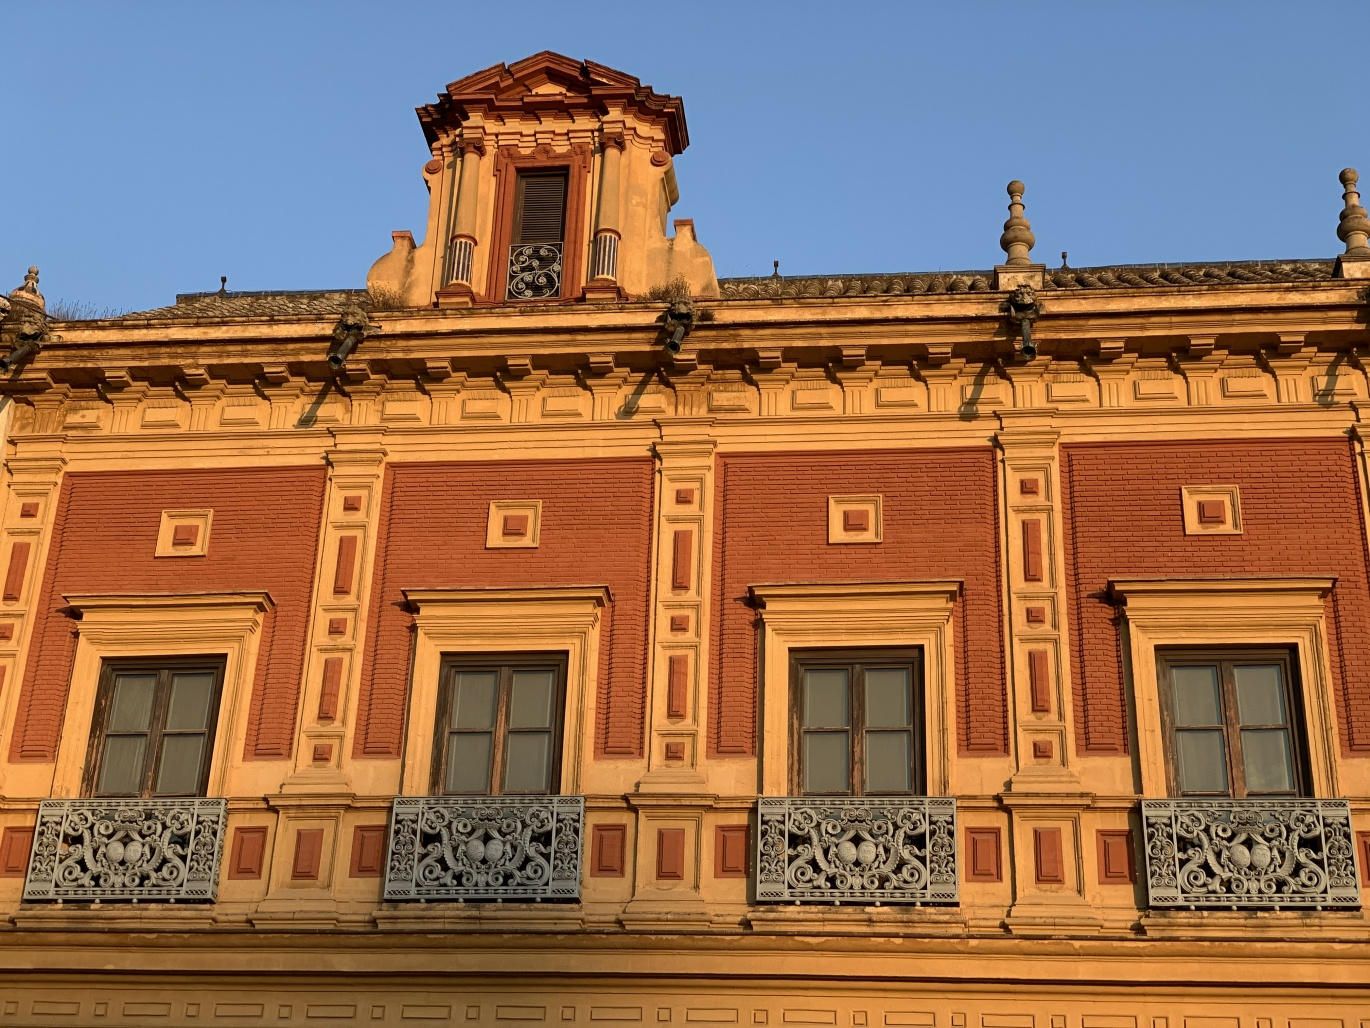fronton-partido: (432, 46, 651, 116)
vano-adintelado: (1132, 605, 1337, 819), (763, 613, 959, 816), (58, 621, 253, 823), (399, 619, 598, 813), (485, 134, 597, 292)
